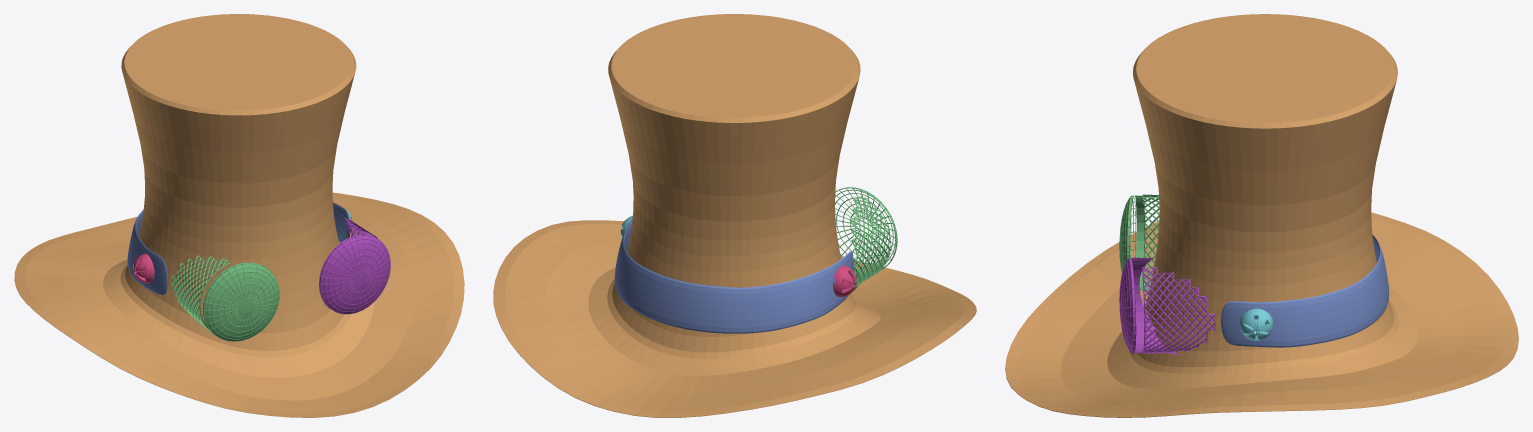
The model's file is full_10.glb.
3 renders of one model, left to right at view 1: azimuth 30°, elevation 25°; view 2: azimuth 150°, elevation 25°; view 3: azimuth 270°, elevation 25°, orthographic. The views are drawn at different scales.
Visible parts, largest first — view 1: world; view 2: world; view 3: world.
Boxes of the visible parts, left/top/right/bottom form: world: left=14, top=14, right=464, bottom=417; world: left=493, top=14, right=976, bottom=417; world: left=1005, top=14, right=1518, bottom=417.
Bounding box in the file's own units: 0.6387 × 0.4211 × 0.644.
